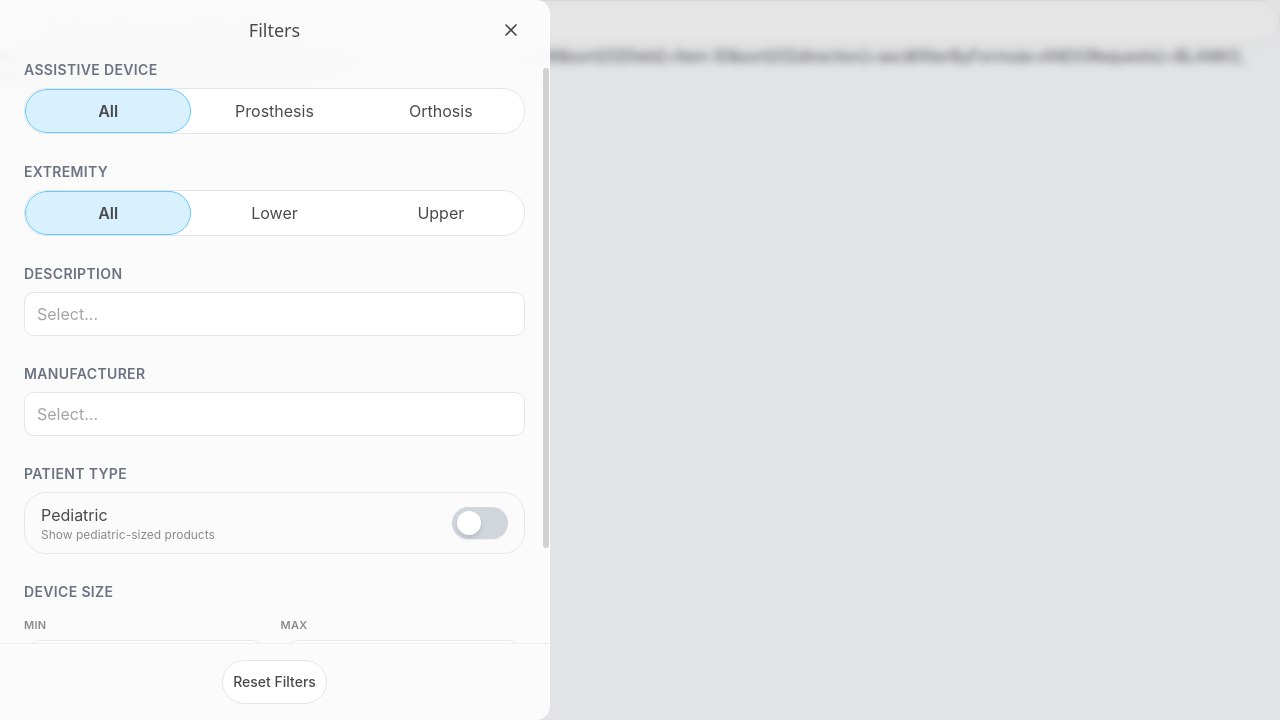
Test: Filter integration → Airtable query › assistive device + upper extremity → hides parts and filters to Arms/Hands
Expected: the text "Assistive Device" is shown, [24,61,158,78]
Click the button "Prosthesis": (274, 111) [191,89,358,133]
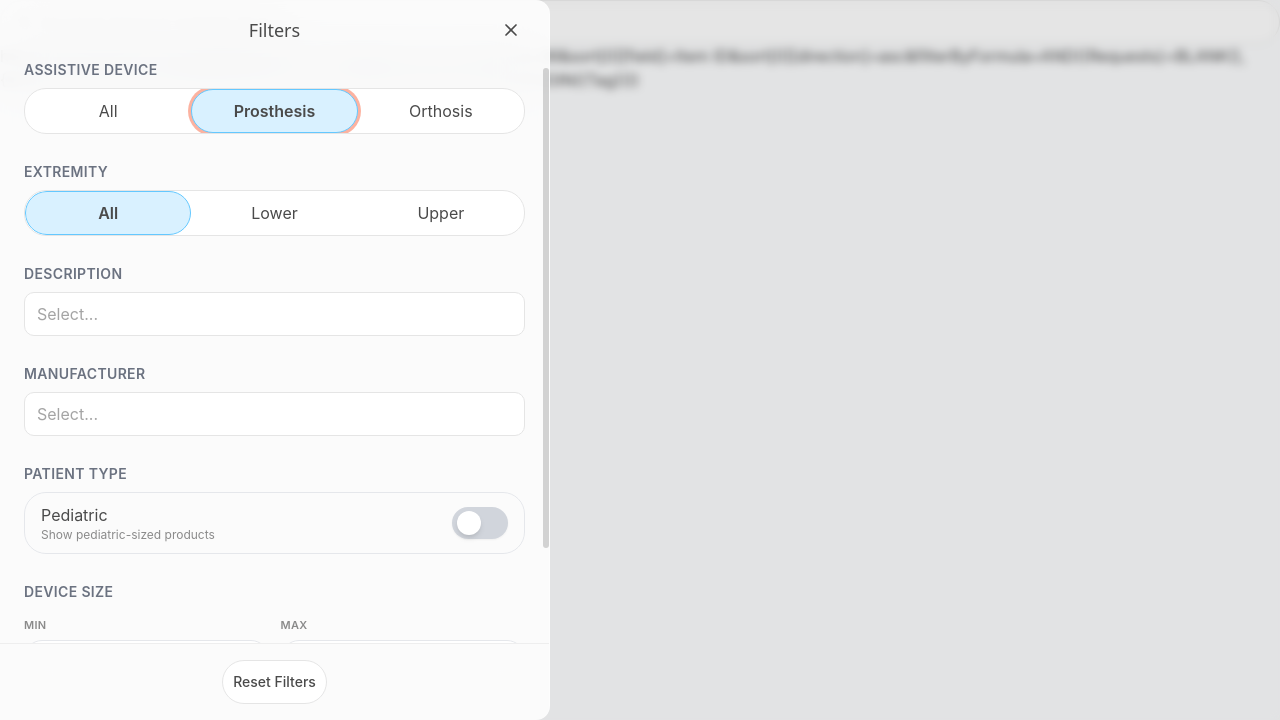
Expected: the text "Extremity" is shown, [24,163,108,180]
Click the button "Upper": (441, 213) [358,191,524,235]
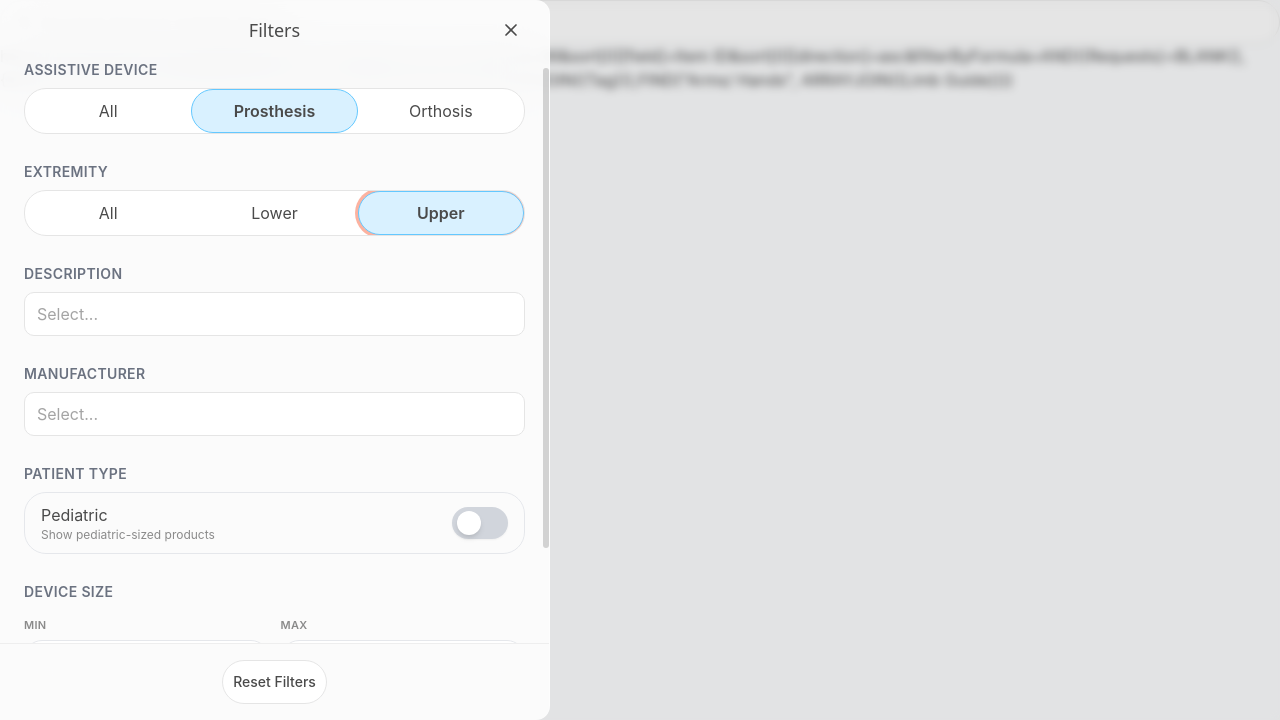
Expected: the text with test id "query" shows "FIND(\"Prosthesis\", ARRAYJOIN({Tag}))", [0,46,1245,90]
Expected: the text with test id "query" shows "FIND(\"Arms/ Hands\", ARRAYJOIN({Limb Guide}))", [0,46,1245,90]
